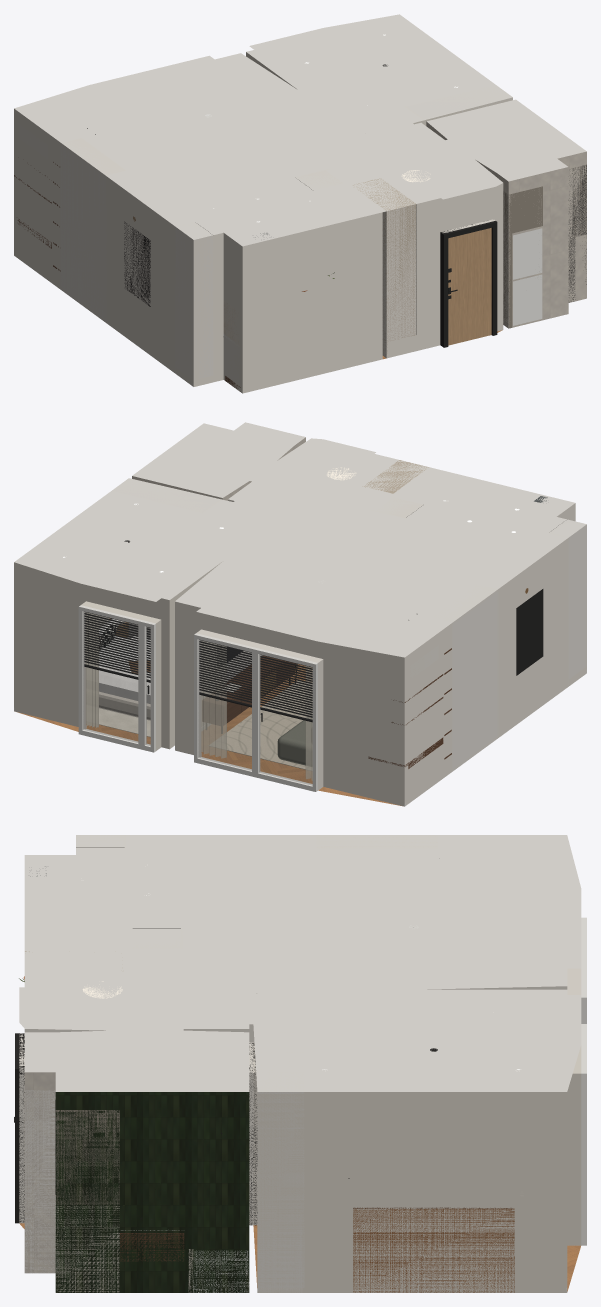
File: flat.glb
3 views of the same model, one above another, from view 1: azimuth 30°, elevation 25°; view 2: azimuth 150°, elevation 25°; view 3: azimuth 270°, elevation 25° (orthographic). The views are drawn at different scales.
Visible parts, largest first — view 1: living_walls, bedroom_walls, bath_shell, int_living, doors, bath_furn, int_hall, living_furn, int_bath, dining, int_bed, int_kitchen (+1 smaller); view 2: living_walls, bedroom_walls, glass, windows, int_living, living_furn, bath_shell, bedroom_furn, living_floor, dining, int_bed, int_hall (+1 smaller); view 3: bedroom_walls, living_walls, bath_shell, bedroom_furn, int_bath, int_bed, bath_furn, doors, windows, living_furn.
Boxes of the visible parts, x1,y1,x2,y2 form: living_walls: (14,53,503,393); bedroom_walls: (246,14,512,134); bath_shell: (426,99,586,328); int_living: (17,146,213,379); doors: (440,221,497,347); bath_furn: (503,165,586,328); int_hall: (353,178,416,341); living_furn: (14,114,211,322); int_bath: (512,164,586,236); dining: (124,216,210,372); int_bed: (406,86,512,118); int_kitchen: (224,170,341,384); living_walls: (175,438,586,806); bedroom_walls: (14,478,279,750); glass: (83,612,312,784); windows: (78,605,317,791); int_living: (202,519,586,768); living_furn: (201,580,498,780); bath_shell: (132,422,305,500); bedroom_furn: (63,500,223,736); living_floor: (201,663,402,806); dining: (516,525,568,686); int_bed: (112,478,219,512); int_hall: (364,460,428,493); bedroom_walls: (253,989,581,1292); living_walls: (19,835,581,1225); bath_shell: (24,1030,249,1292); bedroom_furn: (257,1048,523,1292); int_bath: (25,1090,184,1273); int_bed: (257,1032,304,1287); bath_furn: (55,1100,249,1292); doors: (14,1033,257,1225); windows: (574,917,586,1245); living_furn: (316,835,437,928).
Bounding box in the file's own units: 7.56 × 2.75 × 7.09.
Materials: 242 (30 with a texture image).
